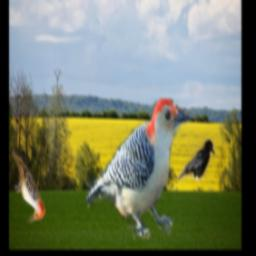Crow: (177, 139, 214, 181)
Woodpecker: (85, 98, 192, 239), (11, 148, 44, 224)
